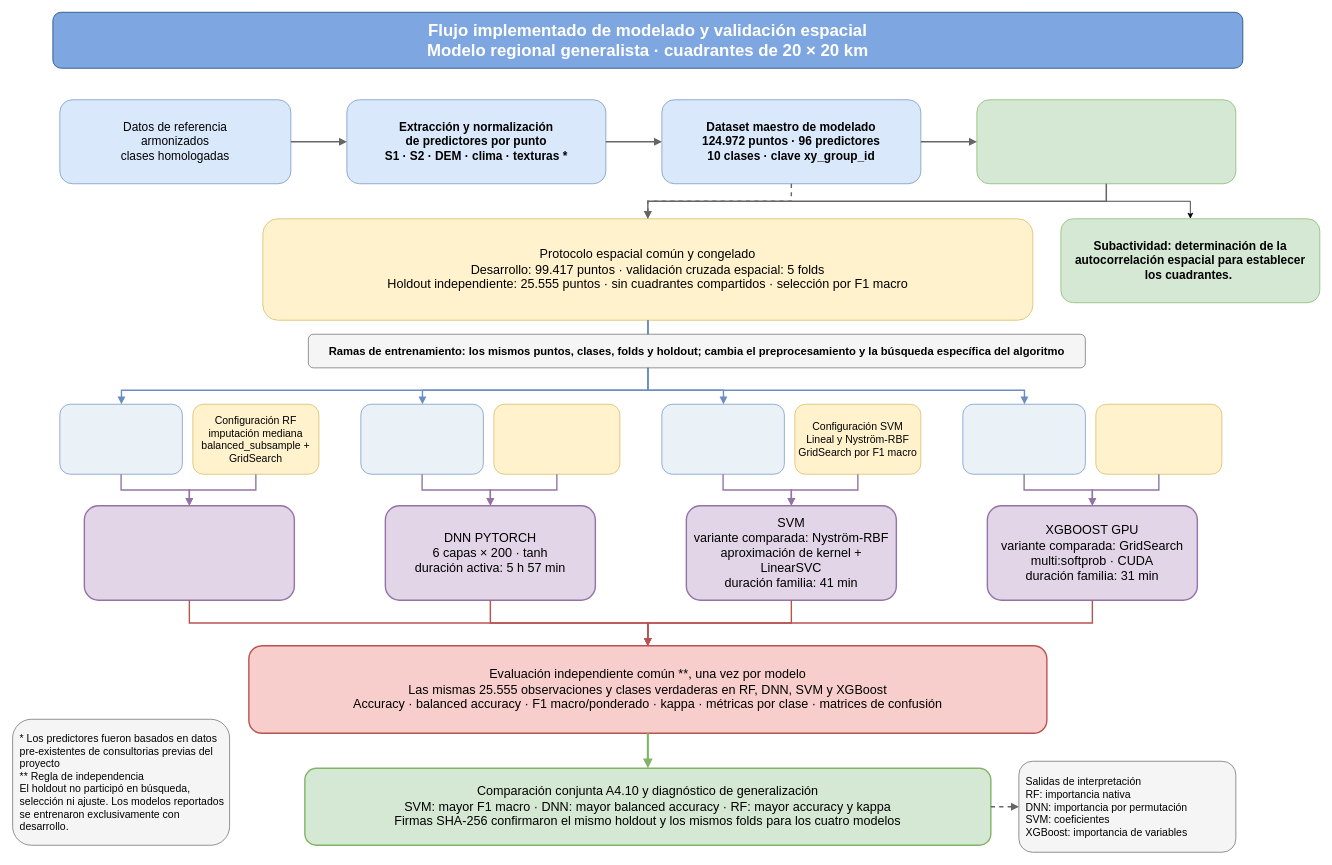
The diagram is 1332 pixels wide and 865 high, and some of its shapes have lost their labels. The shapes that lost their labels are listed below. From the top down, each one's centre as x and y in pixels, then its label:
At pixel 1106 141: "Agrupación espacial id_cuadrante bloques completos 20 × 20 km".
At pixel 120 439: "Entrada común desarrollo + folds 96 predictores".
At pixel 421 439: "Entrada común desarrollo + folds preprocesador por fold".
At pixel 556 439: "Configuración DNN mediana + estandarización optimizador · LR · dropout · épocas".
At pixel 722 439: "Entrada común desarrollo + folds mediana + estandarización".
At pixel 1023 439: "Entrada común desarrollo + folds clases codificadas".
At pixel 1158 439: "Configuración XGBoost GPU · tree_method=hist base + GridSearch por F1 macro".
At pixel 189 553: "Random Forest modelo seleccionado duración: 5 h 00 min".
